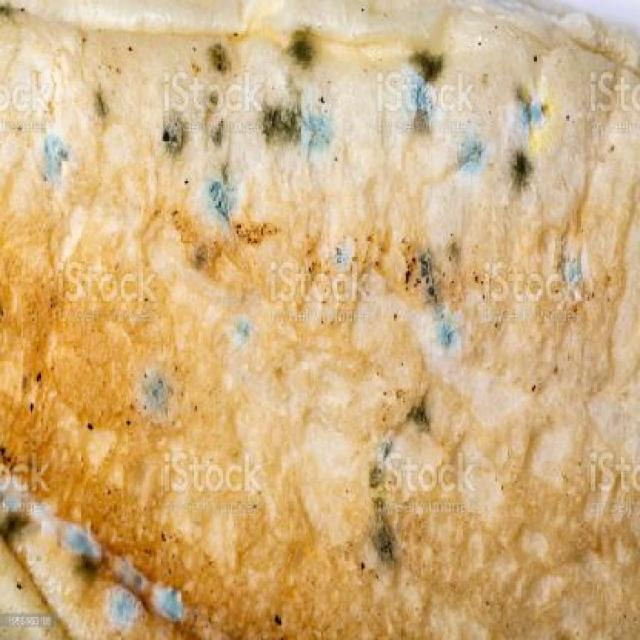mold_bread: (360, 452, 410, 573), (33, 497, 108, 562), (259, 97, 337, 152), (135, 363, 186, 429), (402, 244, 453, 297), (510, 86, 558, 140), (447, 128, 491, 180), (102, 580, 142, 637), (33, 126, 71, 184), (282, 22, 325, 73), (206, 176, 244, 229), (150, 577, 192, 623), (506, 152, 542, 202), (400, 390, 438, 437), (427, 305, 463, 352), (1, 465, 31, 521), (153, 110, 189, 156), (195, 40, 237, 75), (326, 233, 361, 274), (400, 50, 444, 80), (559, 250, 590, 291), (229, 313, 258, 346), (91, 84, 114, 125), (404, 86, 434, 114), (206, 116, 232, 147)
